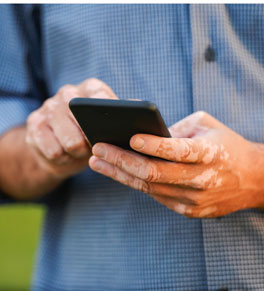vitiligo: (116, 110, 233, 203)
